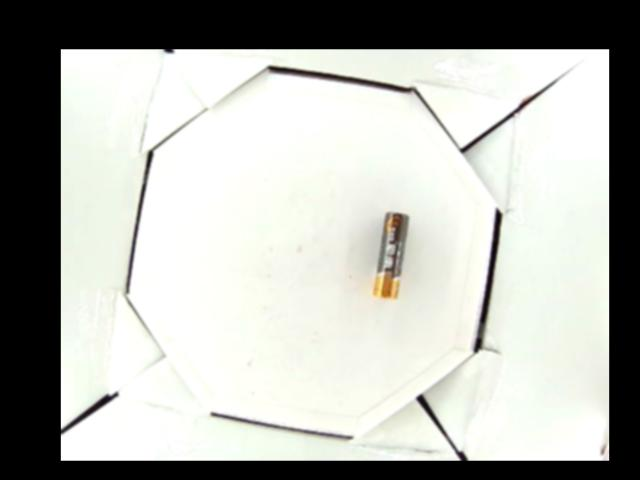Battery: (374, 213, 409, 301)
